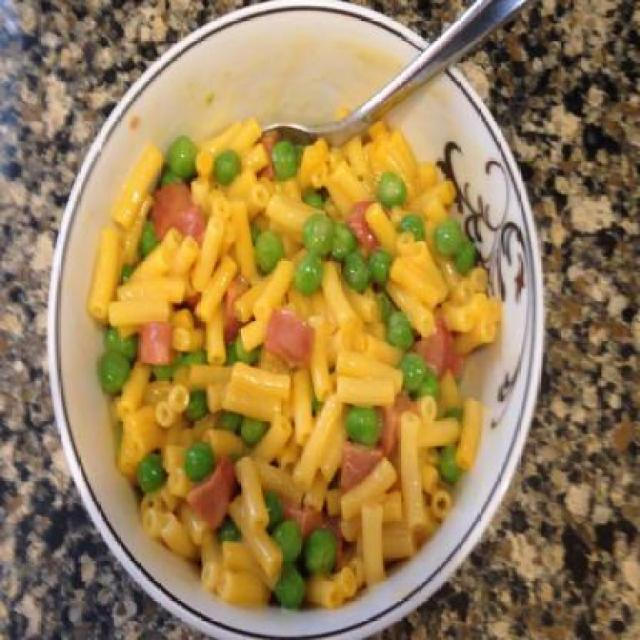hot dog: (342, 394, 403, 494), (150, 186, 212, 252), (265, 307, 318, 362), (190, 457, 238, 514), (414, 311, 452, 375), (137, 319, 178, 363)
macaroni and cheese: (88, 103, 498, 615)
